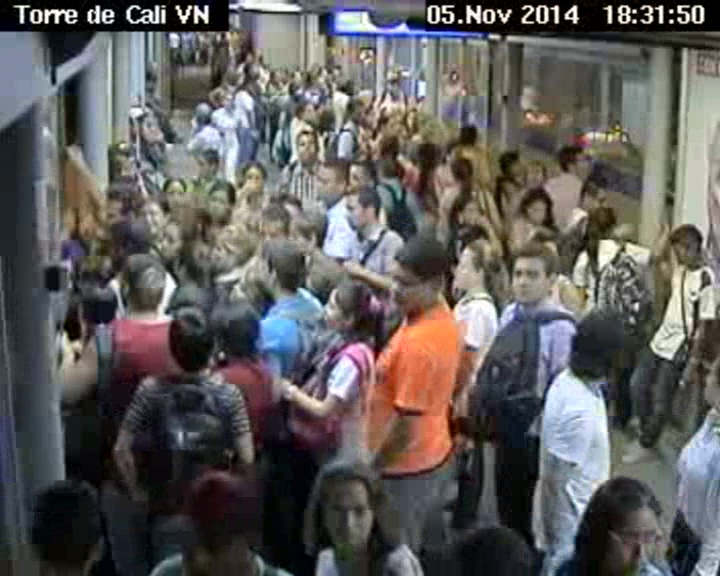person: (160, 470, 275, 574), (569, 468, 663, 576), (299, 457, 390, 562), (17, 470, 113, 567), (382, 236, 453, 321), (562, 307, 639, 382), (441, 519, 538, 576), (446, 231, 513, 301), (164, 305, 224, 381), (204, 299, 267, 362), (319, 277, 378, 338), (508, 239, 557, 310), (254, 237, 308, 295), (116, 253, 166, 315), (74, 280, 116, 335), (667, 222, 708, 270), (313, 158, 353, 207), (342, 186, 382, 234), (160, 219, 198, 263), (287, 214, 331, 249), (450, 194, 488, 233), (556, 141, 592, 181), (207, 180, 239, 221), (585, 208, 622, 242), (514, 188, 549, 223), (134, 194, 169, 229), (575, 178, 609, 212), (448, 156, 481, 190), (492, 146, 524, 181), (239, 162, 266, 200), (292, 128, 321, 163), (346, 160, 380, 189), (192, 148, 225, 177), (412, 139, 446, 167), (191, 102, 220, 130), (376, 130, 400, 163), (345, 97, 373, 123), (165, 175, 190, 199), (454, 123, 479, 146), (522, 162, 546, 184), (241, 62, 263, 85), (384, 69, 400, 97), (295, 102, 315, 121), (220, 91, 239, 111), (270, 67, 282, 85)
